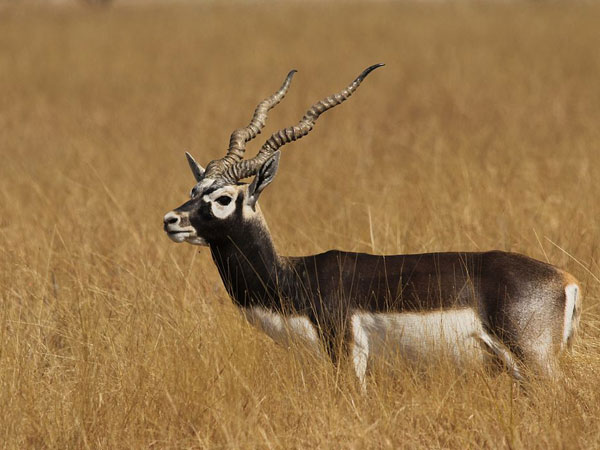Blackbuck: (162, 65, 586, 392)
